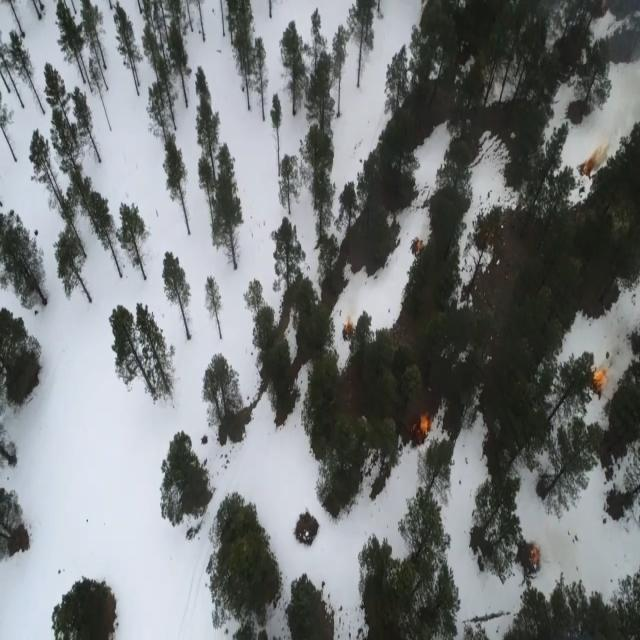Fire: (570, 133, 612, 184), (406, 392, 440, 452), (587, 348, 616, 403), (336, 306, 362, 346), (524, 541, 547, 575)
